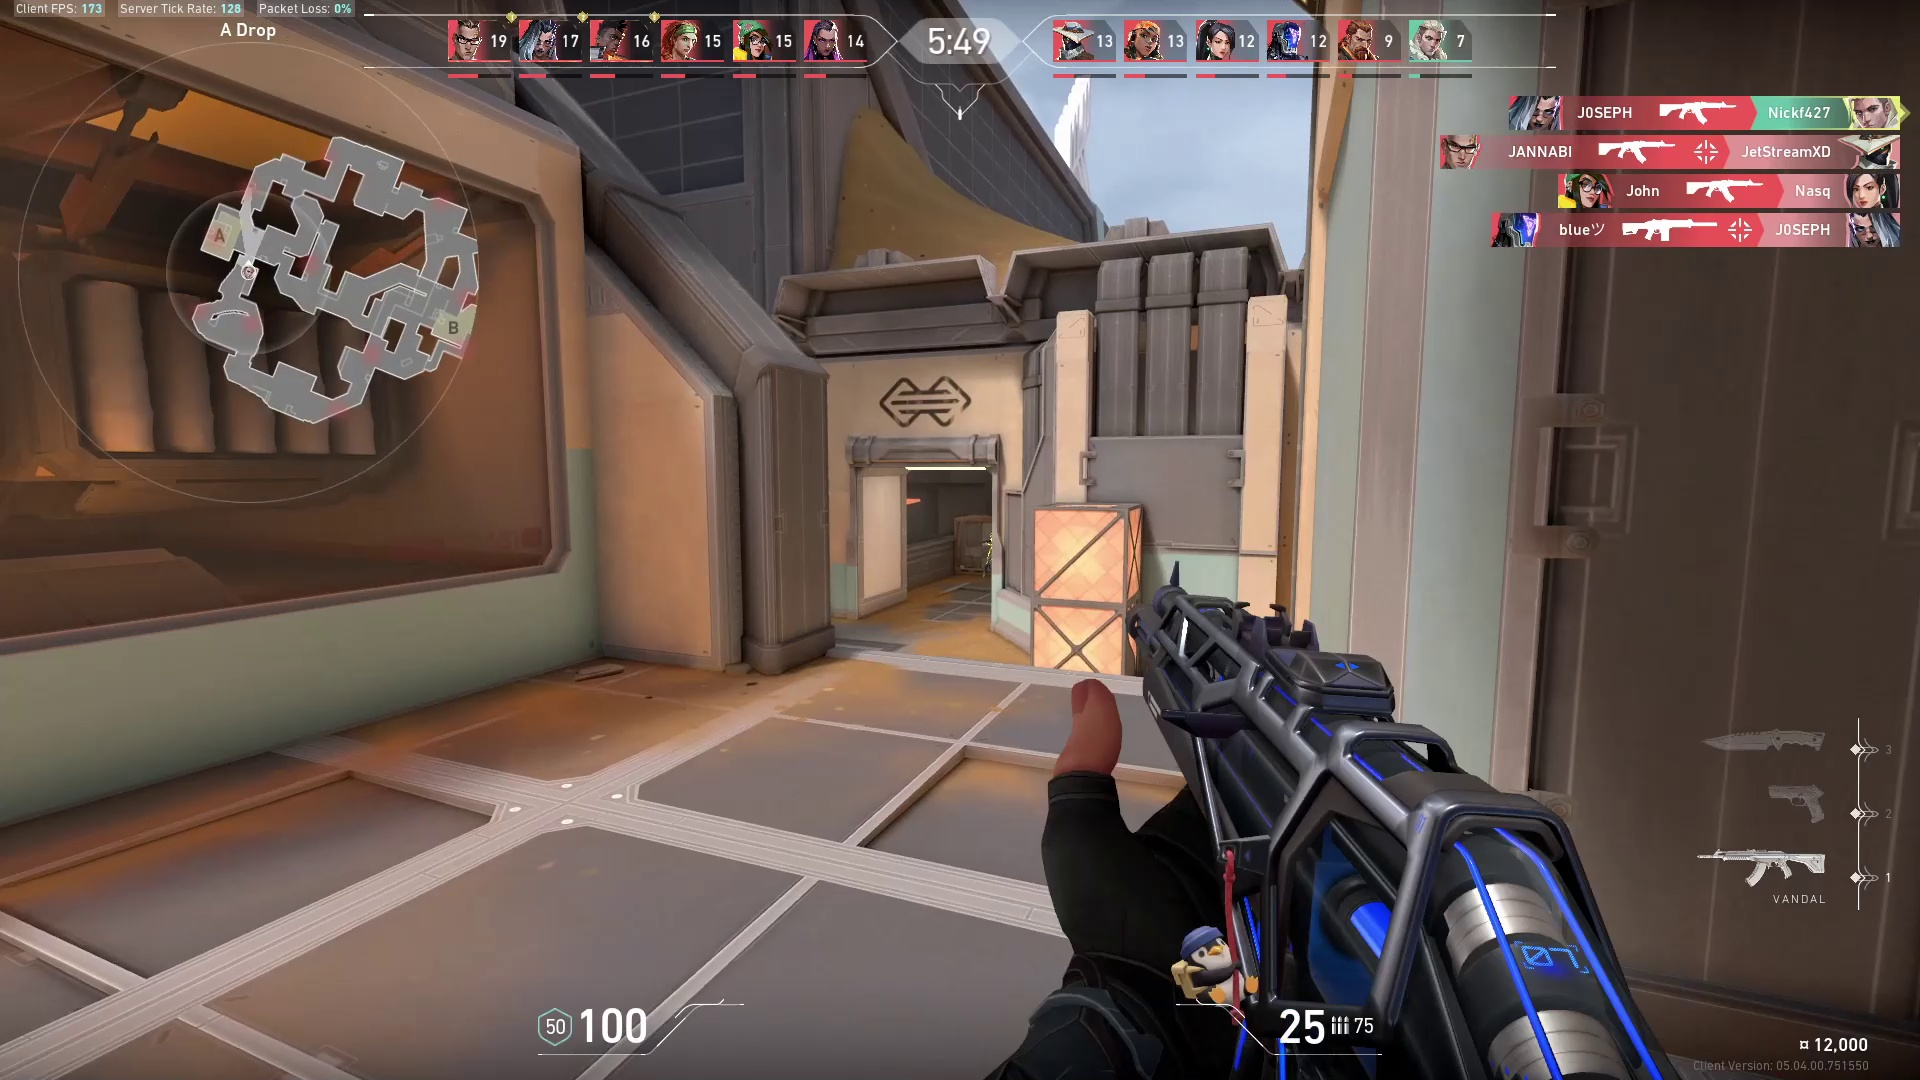enemy_body: (981, 541, 993, 580)
enemy_head: (989, 531, 993, 538)
